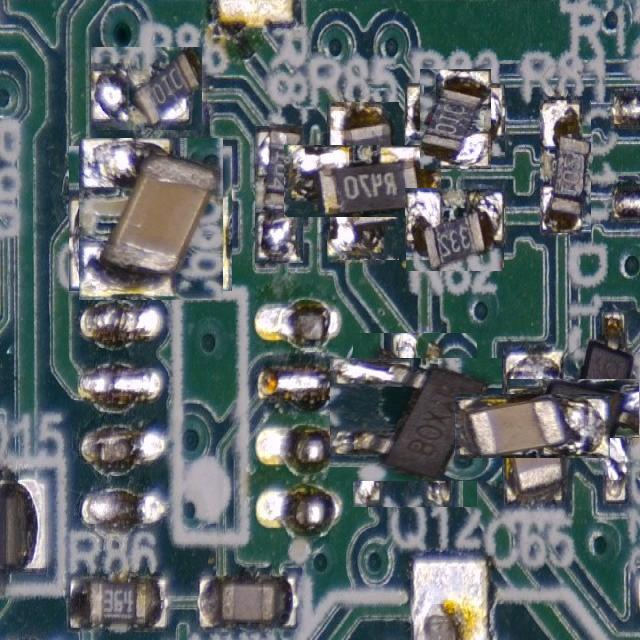Incorrect_installation: (79, 138, 222, 300), (329, 359, 502, 481), (284, 146, 440, 216), (454, 395, 610, 457), (92, 48, 202, 130), (406, 189, 504, 271), (508, 379, 640, 438), (419, 70, 491, 169), (541, 102, 591, 233), (257, 126, 303, 263)
